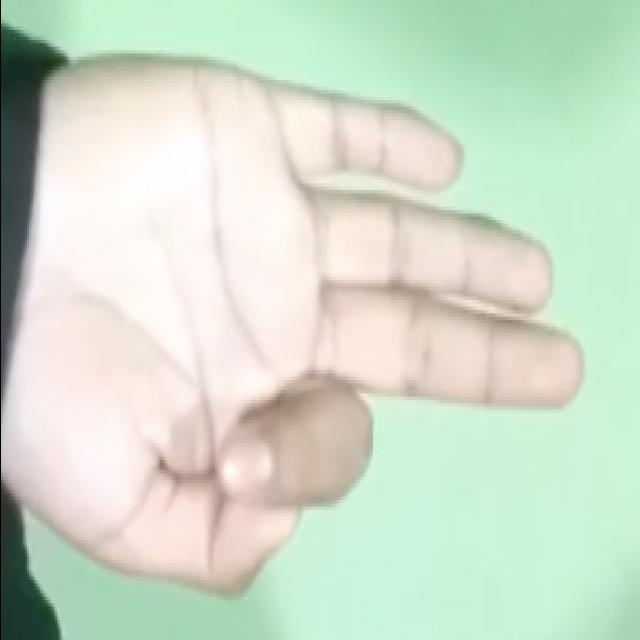F: (49, 46, 593, 608)
